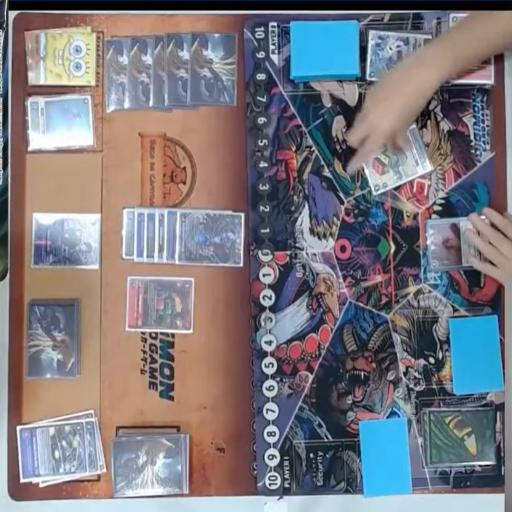card: (362, 122, 433, 198), (176, 204, 245, 271), (24, 93, 96, 153), (425, 210, 493, 272), (32, 212, 101, 270), (126, 276, 195, 334), (18, 423, 86, 479), (450, 15, 496, 84), (364, 38, 432, 82), (144, 204, 159, 270), (134, 204, 150, 264), (166, 204, 180, 264), (123, 206, 135, 266), (157, 204, 168, 269)
